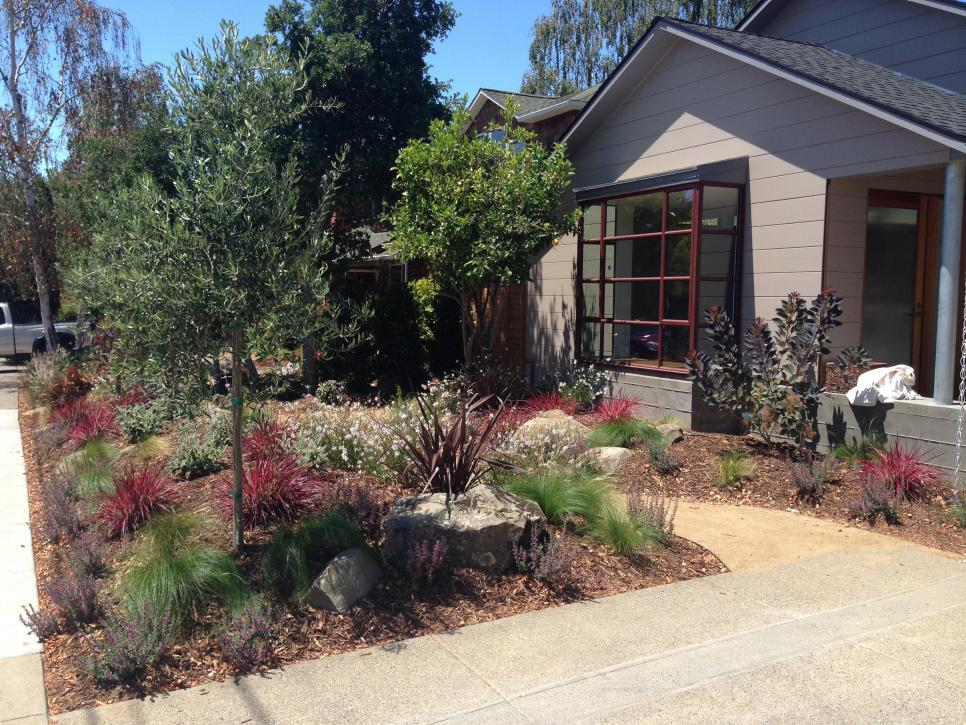tree: (105, 53, 332, 555), (396, 116, 556, 469)
